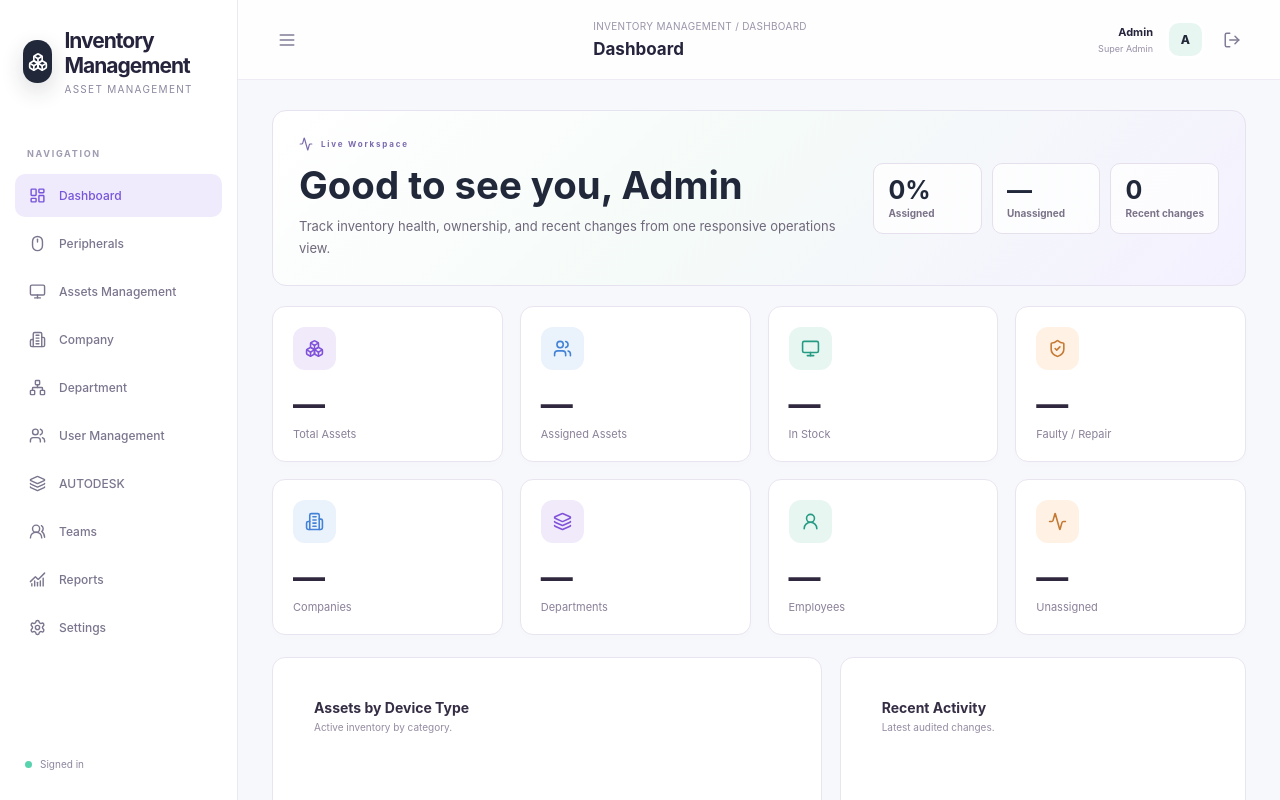
Scenario: renders the Assets Management section and its icons
Click the button "Assets Management": x=118, y=292 [15,270,222,313]
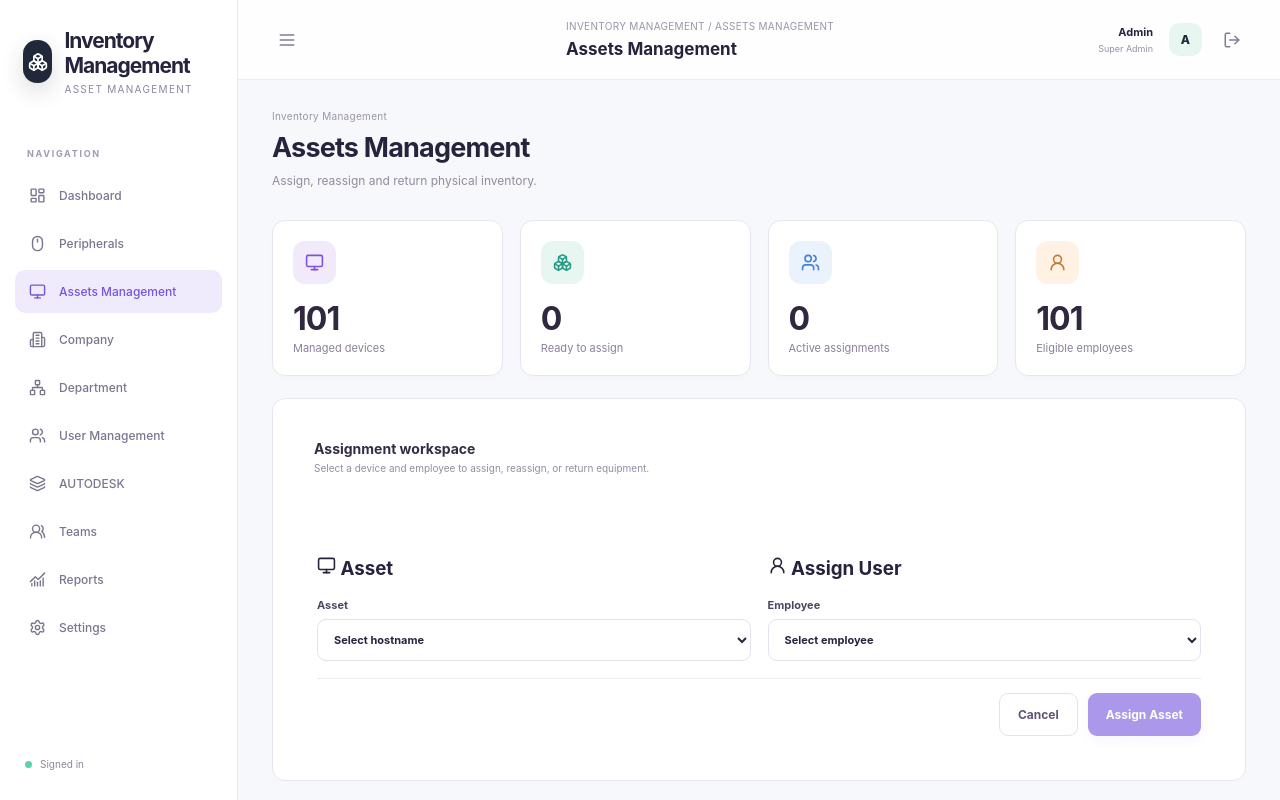
Result: the heading "Assets Management" in the row of "Super Admin" is shown at [566,39,737,59]
